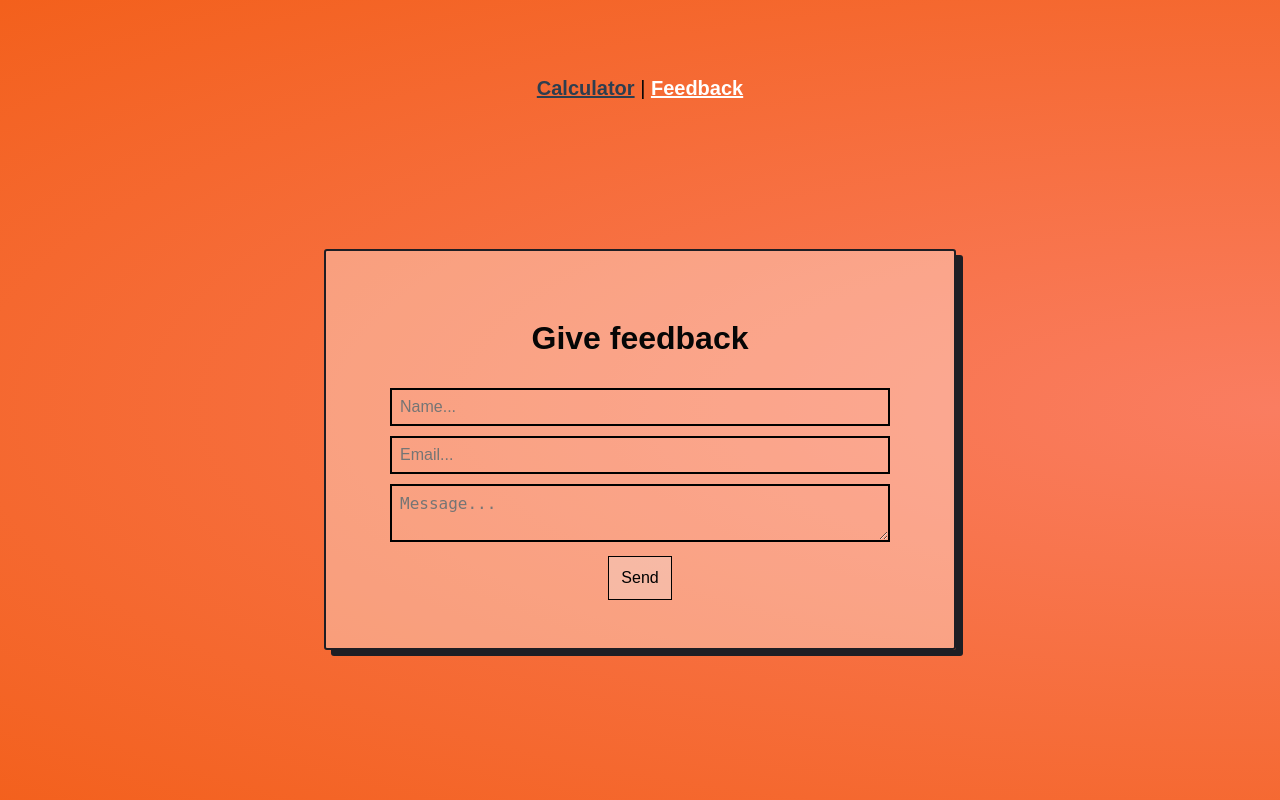
Test: Testing that form submits and displays success › visits the contact view and inputs correct inputs -> displays success
The image size is (1280, 800).
Expected: the heading "Give feedback" is shown, [532,320,748,356]
Step 1. Type "Elon Musk" into the field with id "nameInput" → (640, 407), box [390,388,890,426]
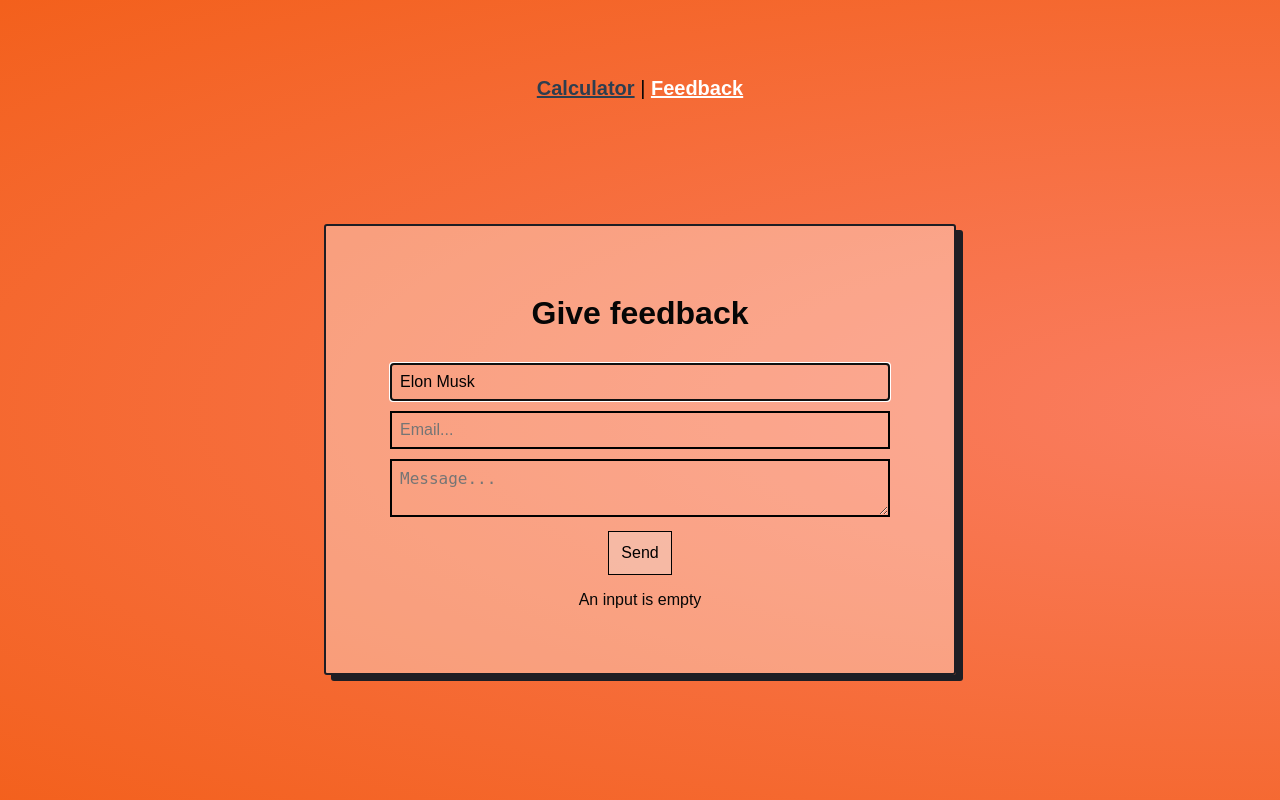
Step 2. Type "elon@tesla.com" into the field with id "emailInput" → (640, 430), box [390,411,890,449]
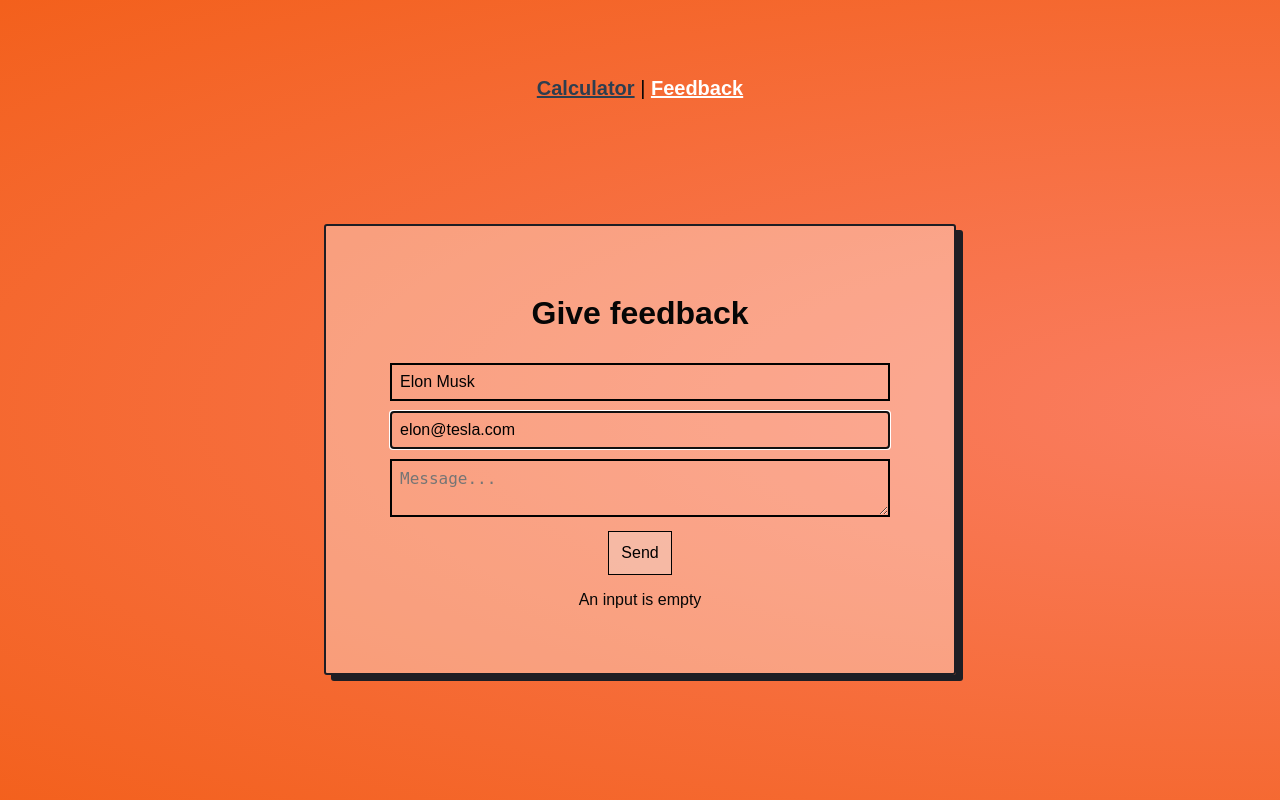
Step 3. Type "Random message" into the text box with id "messageInput" → (640, 488), box [390,459,890,517]
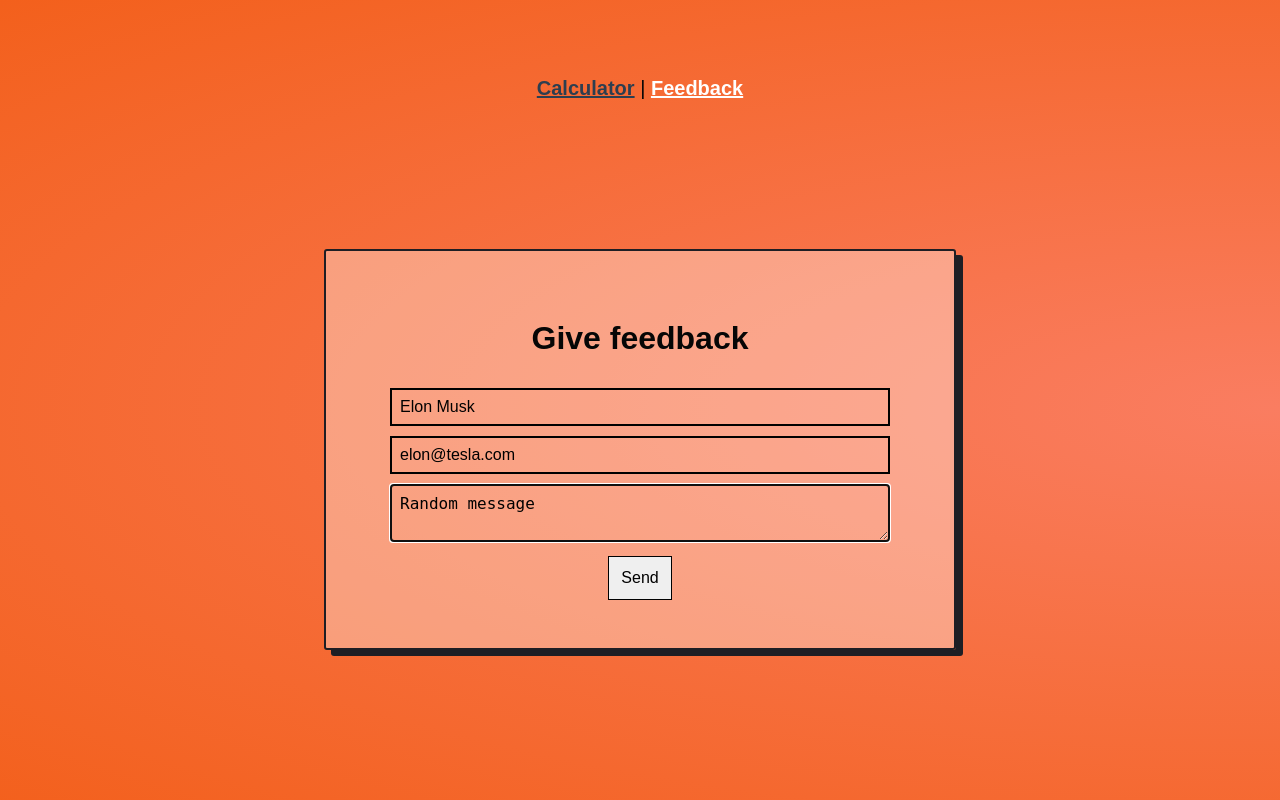
Now the button with id "submitButton" is enabled
Step 4. Click the button with id "submitButton" → click(640, 578), box [608,556,671,600]
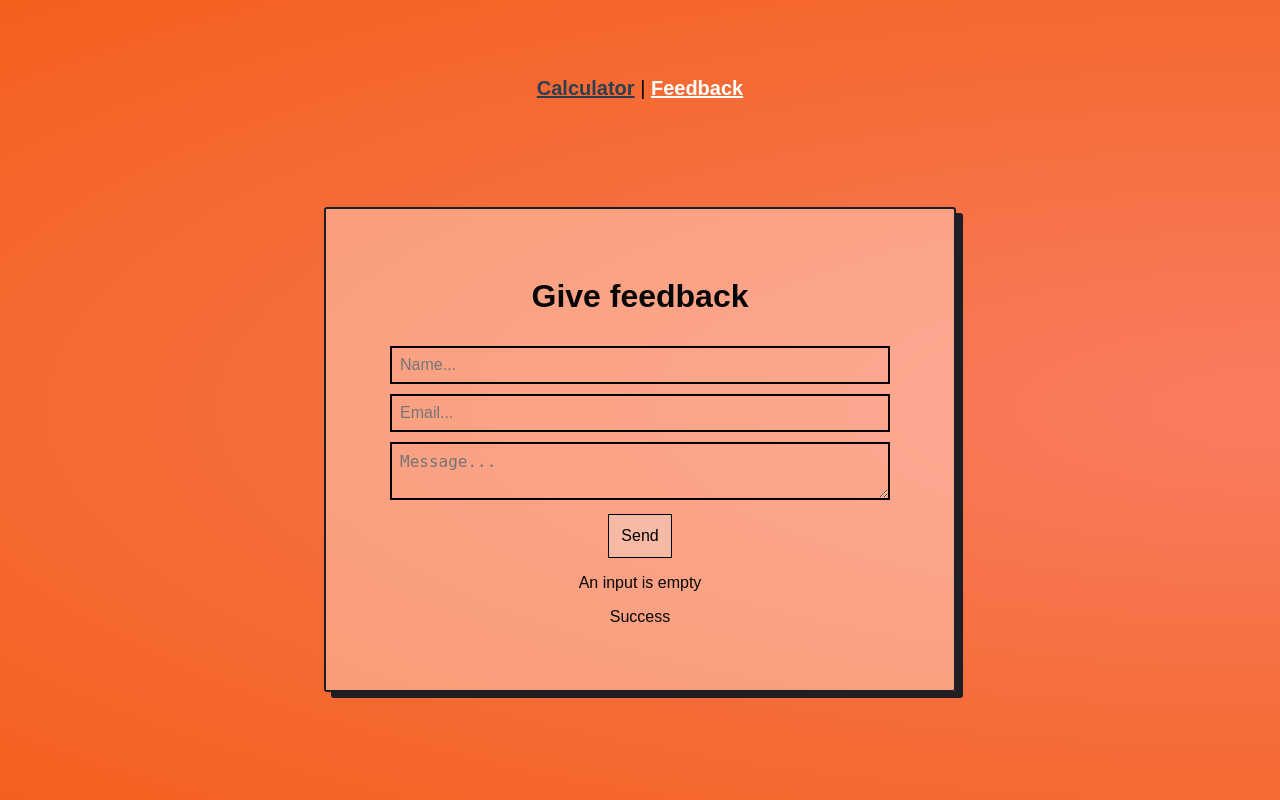
Now the text with id "statusP" reads "Success", box [610,608,670,625]
